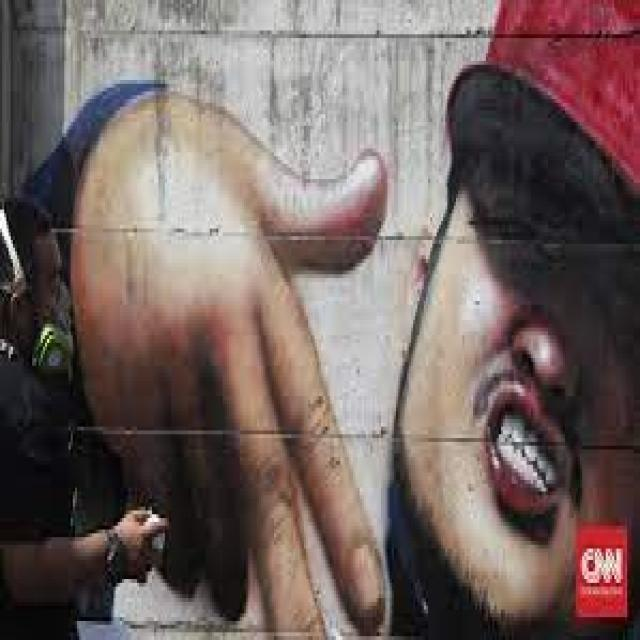-: (59, 0, 636, 624)
